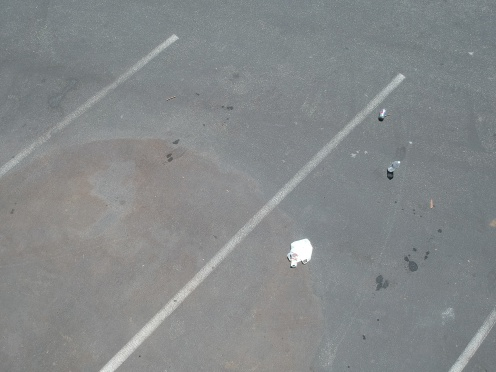bottle: (387, 159, 403, 177)
can: (376, 105, 388, 121)
plastic bag: (282, 236, 314, 268)
